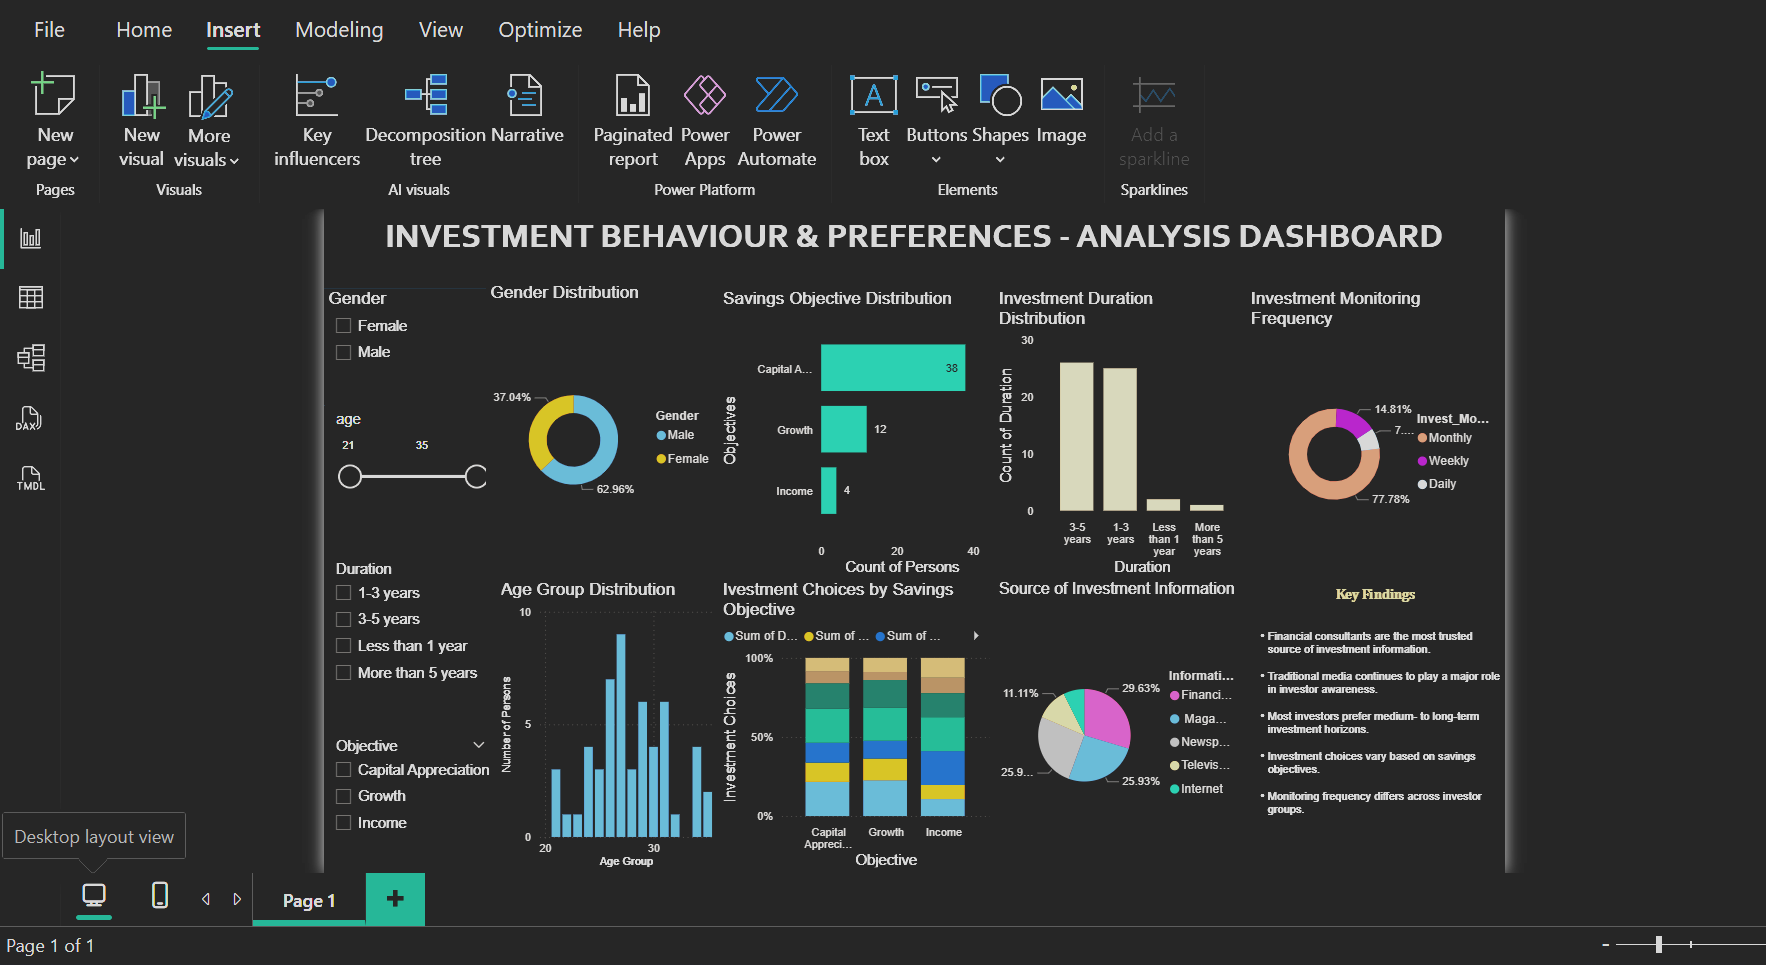

This screenshot's page, from the dashboard's own definition file:
{"tool":"powerbi","page":{"name":"Page 1","canvas":[1280,720],"ordinal":0},"visuals":[{"type":"textbox","box":[0,0,1280.1,86.2],"z":0},{"type":"shape","box":[0,86.8,186.9,632.4],"z":1000},{"type":"slicer","title":"Gender","fields":{"Values":["Data_set 2.gender"]},"box":[0,86.8,186.9,126.5],"z":2000},{"type":"slicer","fields":{"Values":["Data_set 2.Duration"]},"box":[0,375.7,186.9,194.5],"z":3000},{"type":"slicer","fields":{"Values":["Data_set 2.Objective"]},"box":[0,568.3,186.9,151],"z":4000},{"type":"slicer","fields":{"Values":["Data_set 2.age"]},"box":[0,208,176,176],"z":5000},{"type":"clusteredColumnChart","title":"Age Group Distribution","fields":{"Category":["Data_set 2.age"],"Y":["CountNonNull(Data_set 2.age)"]},"box":[187.1,401.8,240.7,317.2],"z":6000},{"type":"clusteredBarChart","title":"Savings Objective Distribution","fields":{"Category":["Data_set 2.Objective"],"Y":["CountNonNull(Data_set 2.Objective)"]},"box":[427.8,86.2,299.3,315.5],"z":7000},{"type":"hundredPercentStackedColumnChart","title":"Ivestment Choices by Savings Objective","fields":{"Category":["Data_set 2.Objective"],"Y":["Sum(Data_set 2.Debentures)","Sum(Data_set 2.Equity_Market)","Sum(Data_set 2.Fixed_Deposits)","Sum(Data_set 2.Gold)","Sum(Data_set 2.Government_Bonds)","Sum(Data_set 2.PPF)","Sum(Data_set 2.Mutual_Funds)"]},"box":[427.8,401.8,299.3,317.2],"z":8000},{"type":"clusteredColumnChart","title":"Investment Duration Distribution","fields":{"Category":["Data_set 2.Duration"],"Y":["CountNonNull(Data_set 2.Duration)"]},"box":[727.1,86.2,273.3,315.5],"z":9000},{"type":"donutChart","title":"Investment Monitoring Frequency","fields":{"Category":["Data_set 2.Invest_Monitor"],"Y":["CountNonNull(Data_set 2.Invest_Monitor)"]},"box":[1000.3,86.2,279.8,317.2],"z":10000},{"type":"pieChart","title":"Source of Investment Information","fields":{"Category":["Data_set 2.Information_Source"],"Y":["CountNonNull(Data_set 2.Information_Source)"]},"box":[727.1,401.8,273.3,317.2],"z":11000},{"type":"textbox","box":[1000,403,280,316],"z":12000},{"type":"donutChart","fields":{"Category":["Data_set 2.gender"],"Y":["CountNonNull(Data_set 2.gender)"]},"box":[176,80,256,320],"z":13000}]}

Visuals, with their boxes on the page's 1280x720 design canvas (x1, y1, x2, y2). These are canvas units, not pixel positions in the 1766x965 screenshot, which may show the page scaled, cropped or inside an application window:
textbox: 0:0:1280:86
shape: 0:87:187:719
"Gender" slicer: 0:87:187:213
slicer - Data_set 2.Duration: 0:376:187:570
slicer - Data_set 2.Objective: 0:568:187:719
slicer - Data_set 2.age: 0:208:176:384
"Age Group Distribution" clusteredColumnChart: 187:402:428:719
"Savings Objective Distribution" clusteredBarChart: 428:86:727:402
"Ivestment Choices by Savings Objective" hundredPercentStackedColumnChart: 428:402:727:719
"Investment Duration Distribution" clusteredColumnChart: 727:86:1000:402
"Investment Monitoring Frequency" donutChart: 1000:86:1280:403
"Source of Investment Information" pieChart: 727:402:1000:719
textbox: 1000:403:1280:719
donutChart - Data_set 2.gender x CountNonNull(Data_set 2.gender): 176:80:432:400
